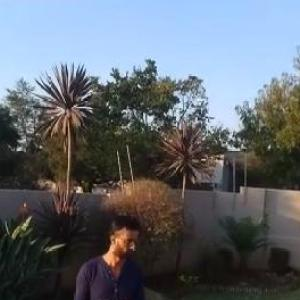follow: (69, 208, 148, 299)
